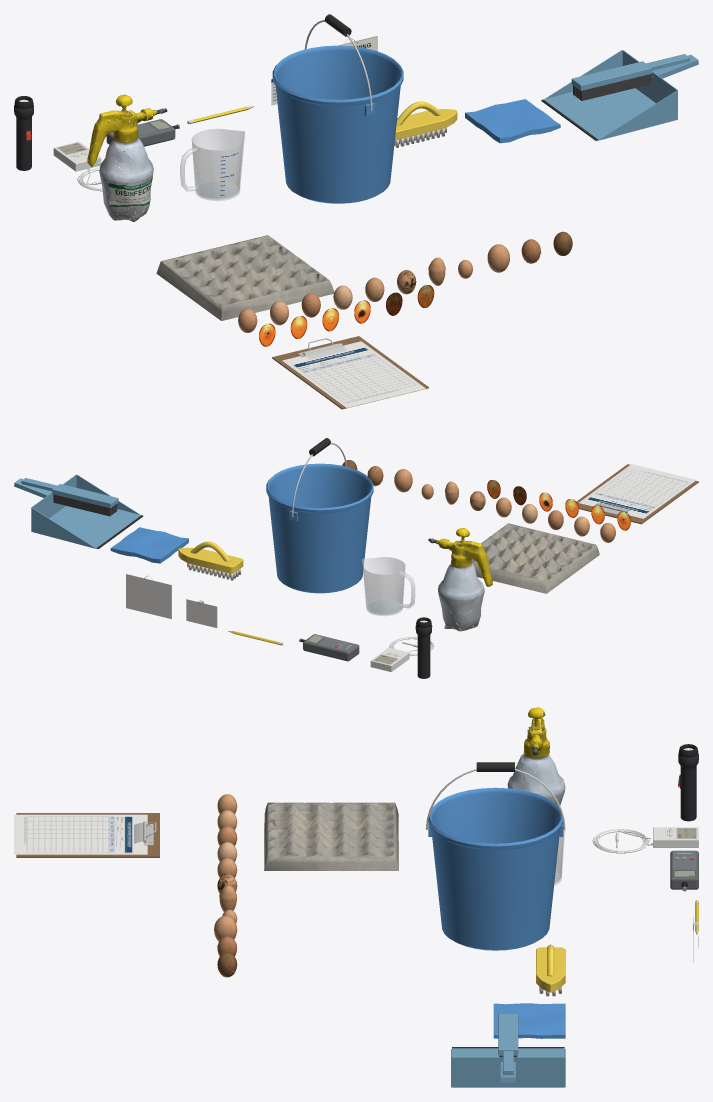
Rendered from items-KtAkJ4Ql.glb.
The picture shows the model from 3 angles, top to bottom: view 1: azimuth 30°, elevation 25°; view 2: azimuth 150°, elevation 25°; view 3: azimuth 270°, elevation 25°; orthographic projection. The views are drawn at different scales.
Visible parts, largest first — view 1: TOOL_bucket, ITEM_flat, TOOL_dustpan, TOOL_clipboard_sheet, TOOL_sprayer, TOOL_jug, TOOL_cloth, TOOL_dustpan_brush, TOOL_brush, TOOL_clipboard, TOOL_candler, TOOL_sprayer_label (+2 smaller); view 2: TOOL_bucket, ITEM_flat, TOOL_dustpan, TOOL_sprayer, TOOL_clipboard_sheet, TOOL_jug, TOOL_cloth, ITEM_trolley_card, TOOL_brush, TOOL_dustpan_brush, TOOL_clipboard, TOOL_candler (+4 smaller); view 3: TOOL_bucket, ITEM_flat, TOOL_clipboard_sheet, TOOL_dustpan, TOOL_sprayer, TOOL_cloth, TOOL_clipboard, TOOL_brush, TOOL_candler, TOOL_dustpan_brush, TOOL_reference.
Boxes of the visible parts, x1,y1,x2,y2 form: TOOL_bucket: (272,14,403,203); ITEM_flat: (156,235,334,320); TOOL_dustpan: (541,50,698,140); TOOL_clipboard_sheet: (282,341,425,407); TOOL_sprayer: (87,98,167,221); TOOL_jug: (180,128,244,200); TOOL_cloth: (465,99,560,143); TOOL_dustpan_brush: (571,54,689,100); TOOL_brush: (394,101,457,147); TOOL_clipboard: (272,336,428,409); TOOL_candler: (14,96,33,170); TOOL_sprayer_label: (108,176,152,206); TOOL_bucket: (266,438,373,593); ITEM_flat: (458,523,599,593); TOOL_dustpan: (14,474,143,548); TOOL_sprayer: (428,530,492,631); TOOL_clipboard_sheet: (579,464,696,518); TOOL_jug: (362,557,415,616); TOOL_cloth: (110,527,188,563); ITEM_trolley_card: (126,574,171,619); TOOL_brush: (178,541,243,580); TOOL_dustpan_brush: (21,478,118,516); TOOL_clipboard: (576,464,698,524); TOOL_candler: (415,617,432,678); TOOL_bucket: (426,762,565,950); ITEM_flat: (264,802,398,870); TOOL_clipboard_sheet: (14,814,147,854); TOOL_dustpan: (451,1047,565,1087); TOOL_sprayer: (507,710,565,806); TOOL_cloth: (493,1003,565,1038); TOOL_clipboard: (16,813,159,857); TOOL_brush: (536,944,565,996); TOOL_candler: (678,744,698,821); TOOL_dustpan_brush: (498,1014,518,1074); TOOL_reference: (651,827,698,847).
Size of the model in its own units: 1.57 by 0.409 by 1.52.
63 materials, 27 textured.
